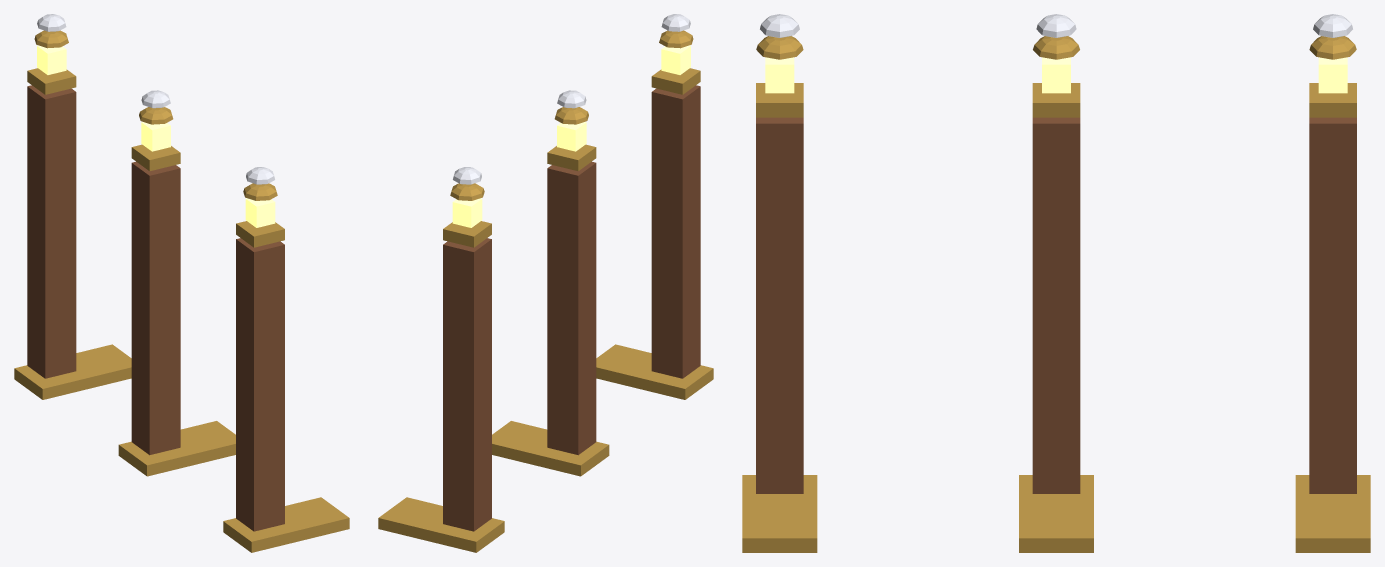
Rendered from h18_ramp_lanterns.fbx.
The picture shows the model from 3 angles, left to right: view 1: azimuth 30°, elevation 25°; view 2: azimuth 150°, elevation 25°; view 3: azimuth 270°, elevation 25°; orthographic projection. The views are drawn at different scales.
Parts seen in each view (by area): view 1: h18_ramp_lanterns__Timber, h18_ramp_lanterns__Brass, h18_ramp_lanterns__Glow, h18_ramp_lanterns__Snow; view 2: h18_ramp_lanterns__Timber, h18_ramp_lanterns__Brass, h18_ramp_lanterns__Glow, h18_ramp_lanterns__Snow; view 3: h18_ramp_lanterns__Timber, h18_ramp_lanterns__Brass, h18_ramp_lanterns__Glow, h18_ramp_lanterns__Snow.
Boxes of the visible parts, <box> form: h18_ramp_lanterns__Timber: <box>27,85,284,531</box>; h18_ramp_lanterns__Brass: <box>14,30,349,552</box>; h18_ramp_lanterns__Glow: <box>37,45,275,227</box>; h18_ramp_lanterns__Snow: <box>37,14,274,184</box>; h18_ramp_lanterns__Timber: <box>443,85,700,531</box>; h18_ramp_lanterns__Brass: <box>378,30,713,552</box>; h18_ramp_lanterns__Glow: <box>452,45,690,227</box>; h18_ramp_lanterns__Snow: <box>453,14,690,184</box>; h18_ramp_lanterns__Timber: <box>756,117,1356,493</box>; h18_ramp_lanterns__Brass: <box>742,36,1370,552</box>; h18_ramp_lanterns__Glow: <box>765,57,1347,93</box>; h18_ramp_lanterns__Snow: <box>760,14,1352,37</box>.
Bounding box in the file's own units: 1.9 × 6.8 × 7.95.
